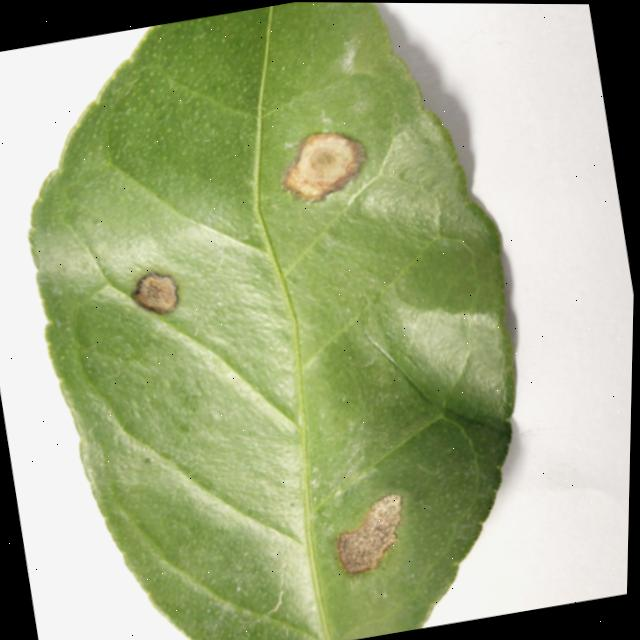antracnose: (29, 2, 513, 640), (283, 133, 364, 201), (336, 494, 401, 573), (132, 272, 177, 313)
